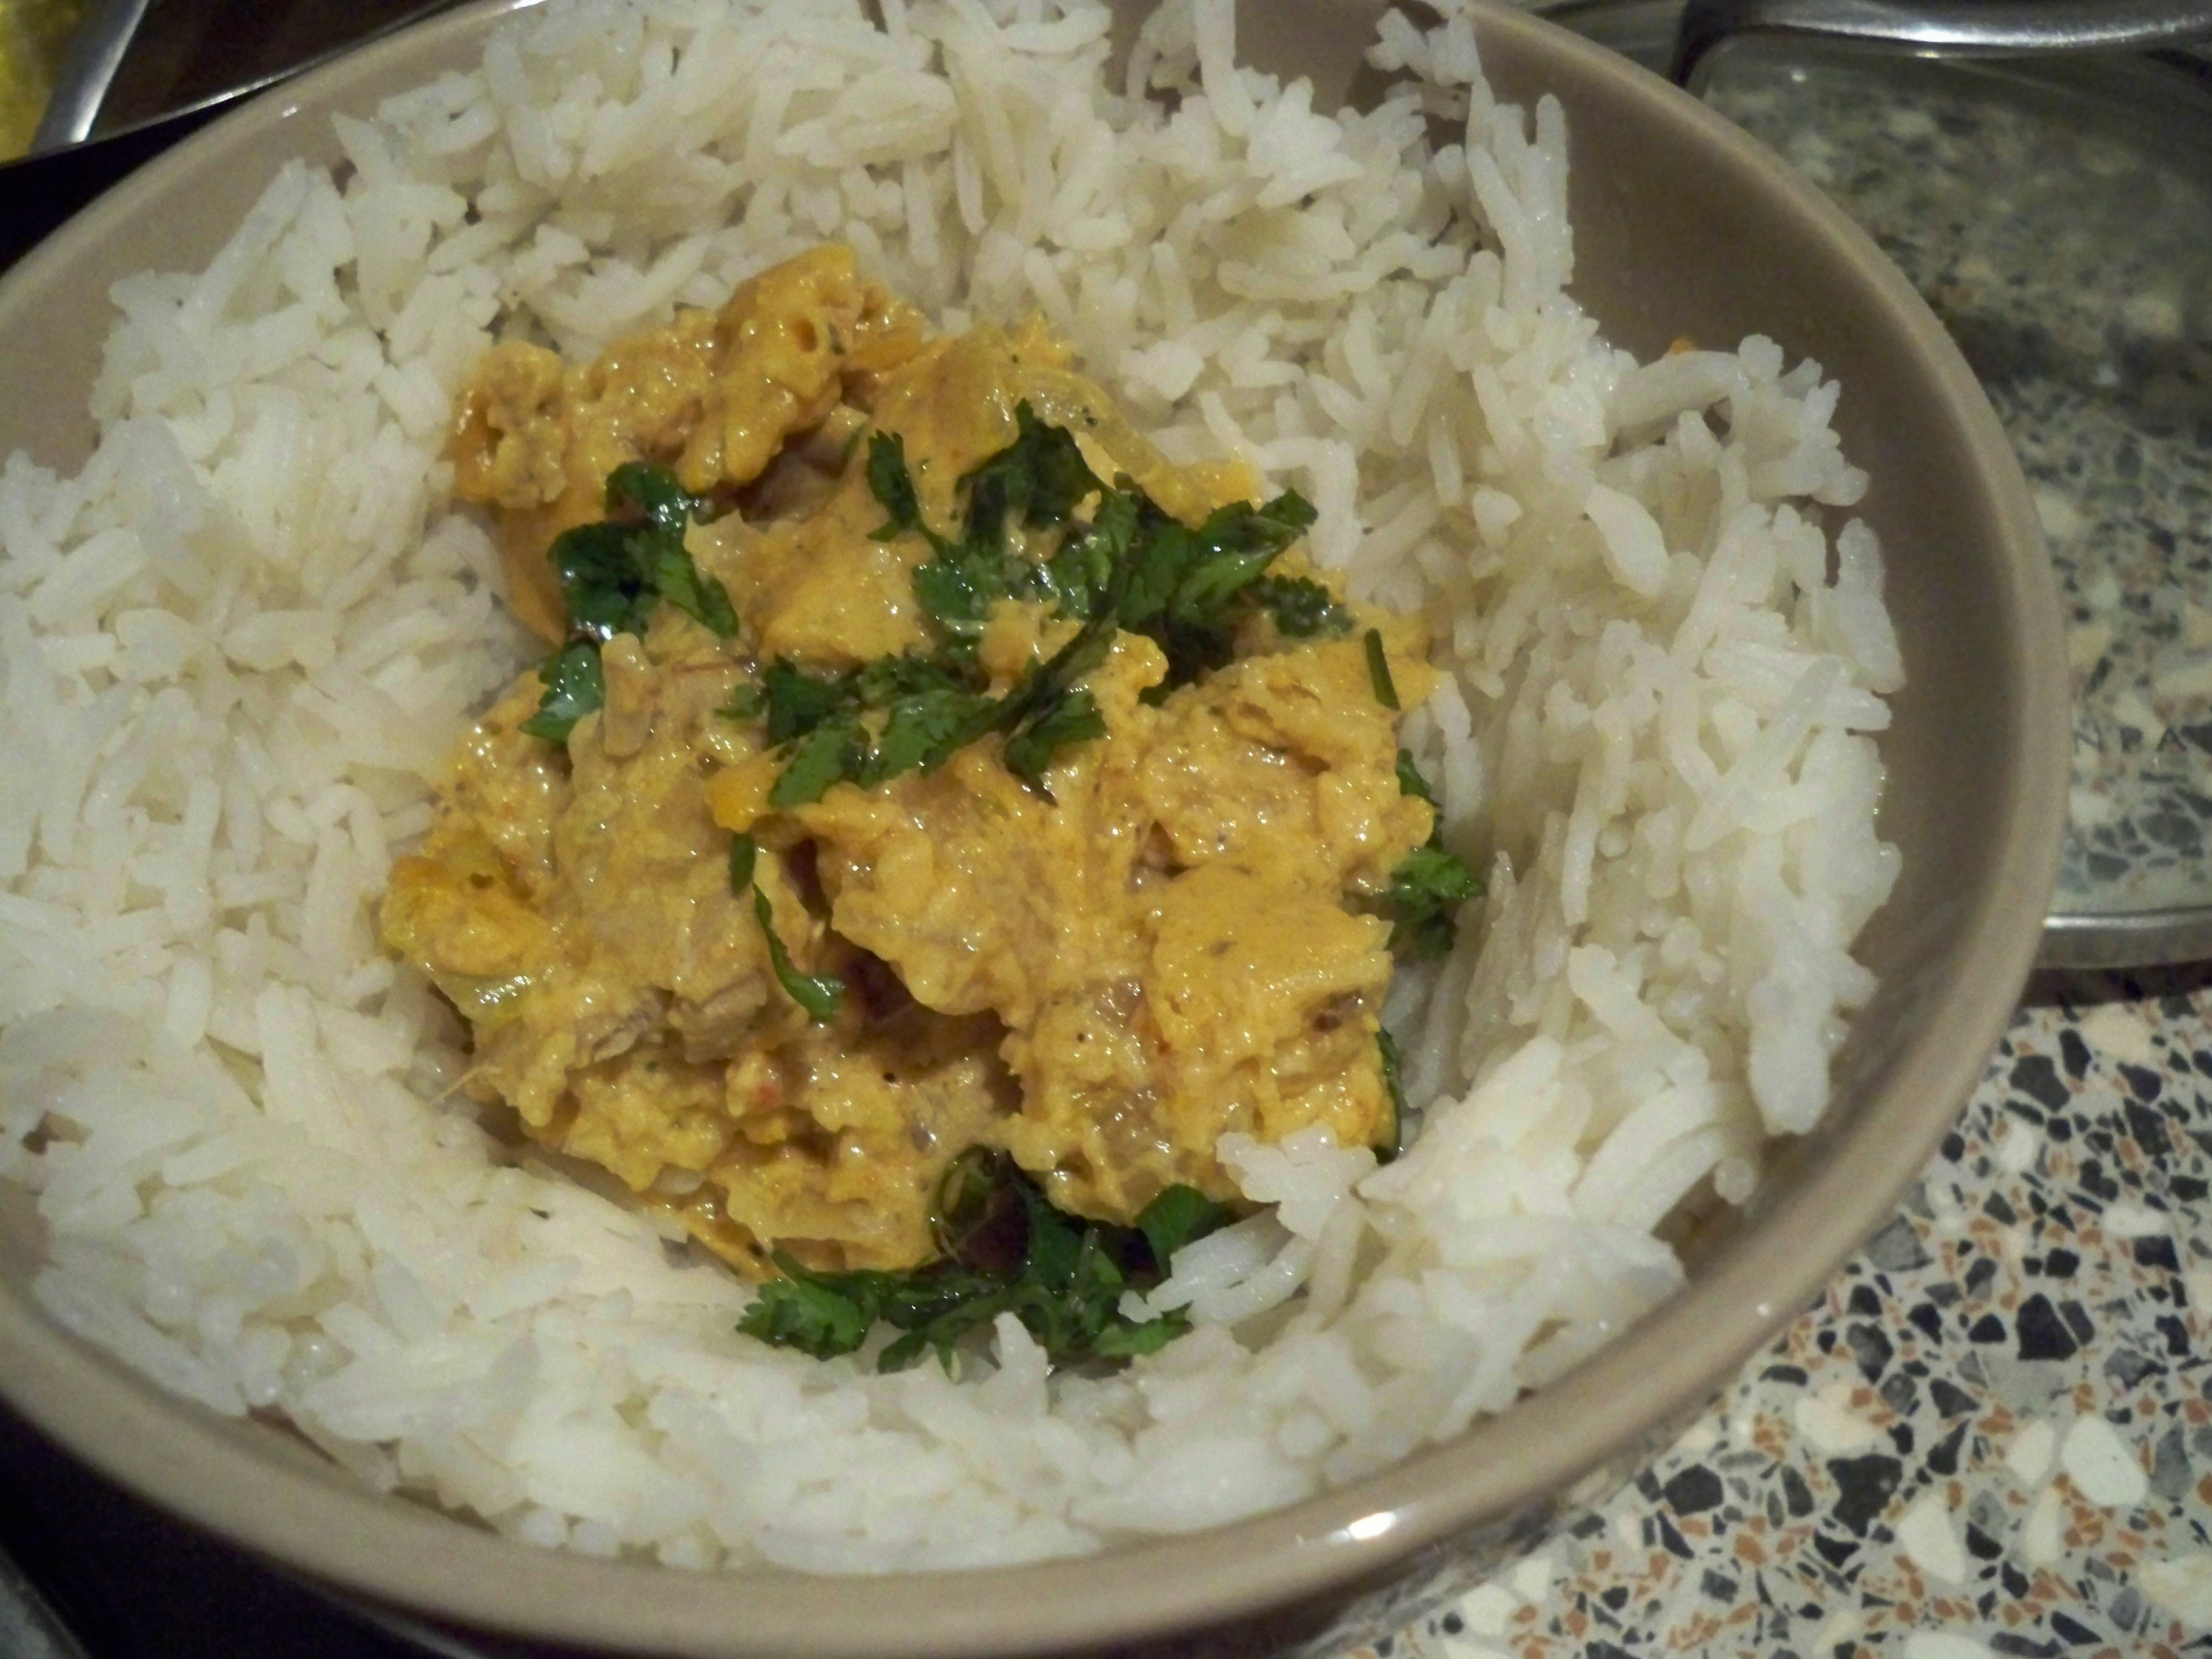plain rice: (10, 26, 1872, 1549)
